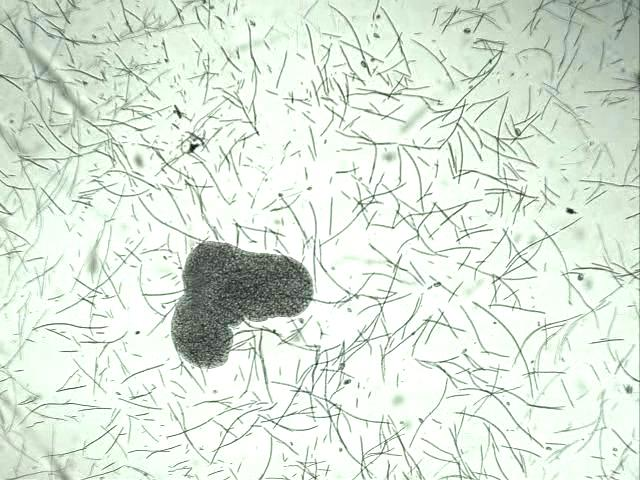Placozoan: (171, 240, 314, 369)
